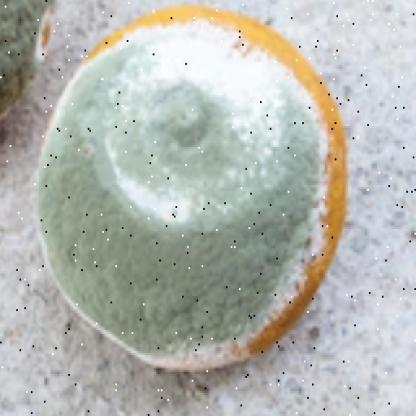rotten: (41, 9, 350, 378)
